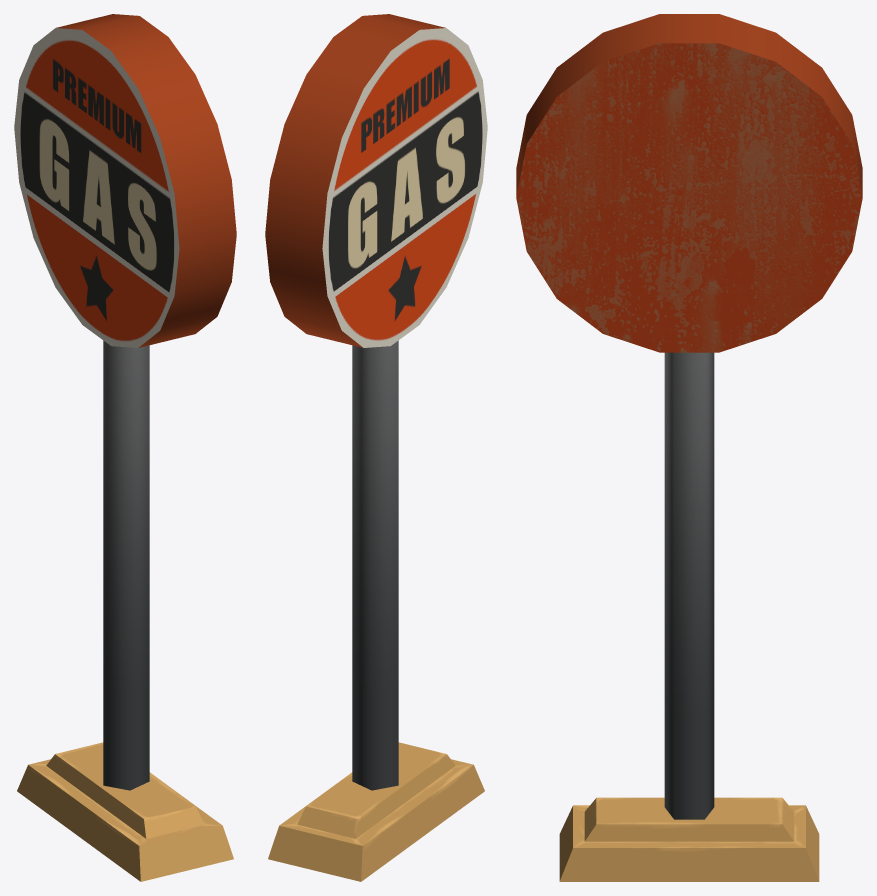
The model's file is sign_round.fbx.
The picture shows the model from 3 angles, left to right: view 1: azimuth 30°, elevation 25°; view 2: azimuth 150°, elevation 25°; view 3: azimuth 270°, elevation 25°; orthographic projection. The views are drawn at different scales.
Parts seen in each view (by area): view 1: sign_round; view 2: sign_round; view 3: sign_round.
Part boxes in pixels (box(x1,y1,x2,y2)): sign_round: box(14, 14, 236, 881); sign_round: box(265, 14, 487, 881); sign_round: box(516, 14, 862, 881).
Size of the model in its own units: 65.16 by 528 by 200.
